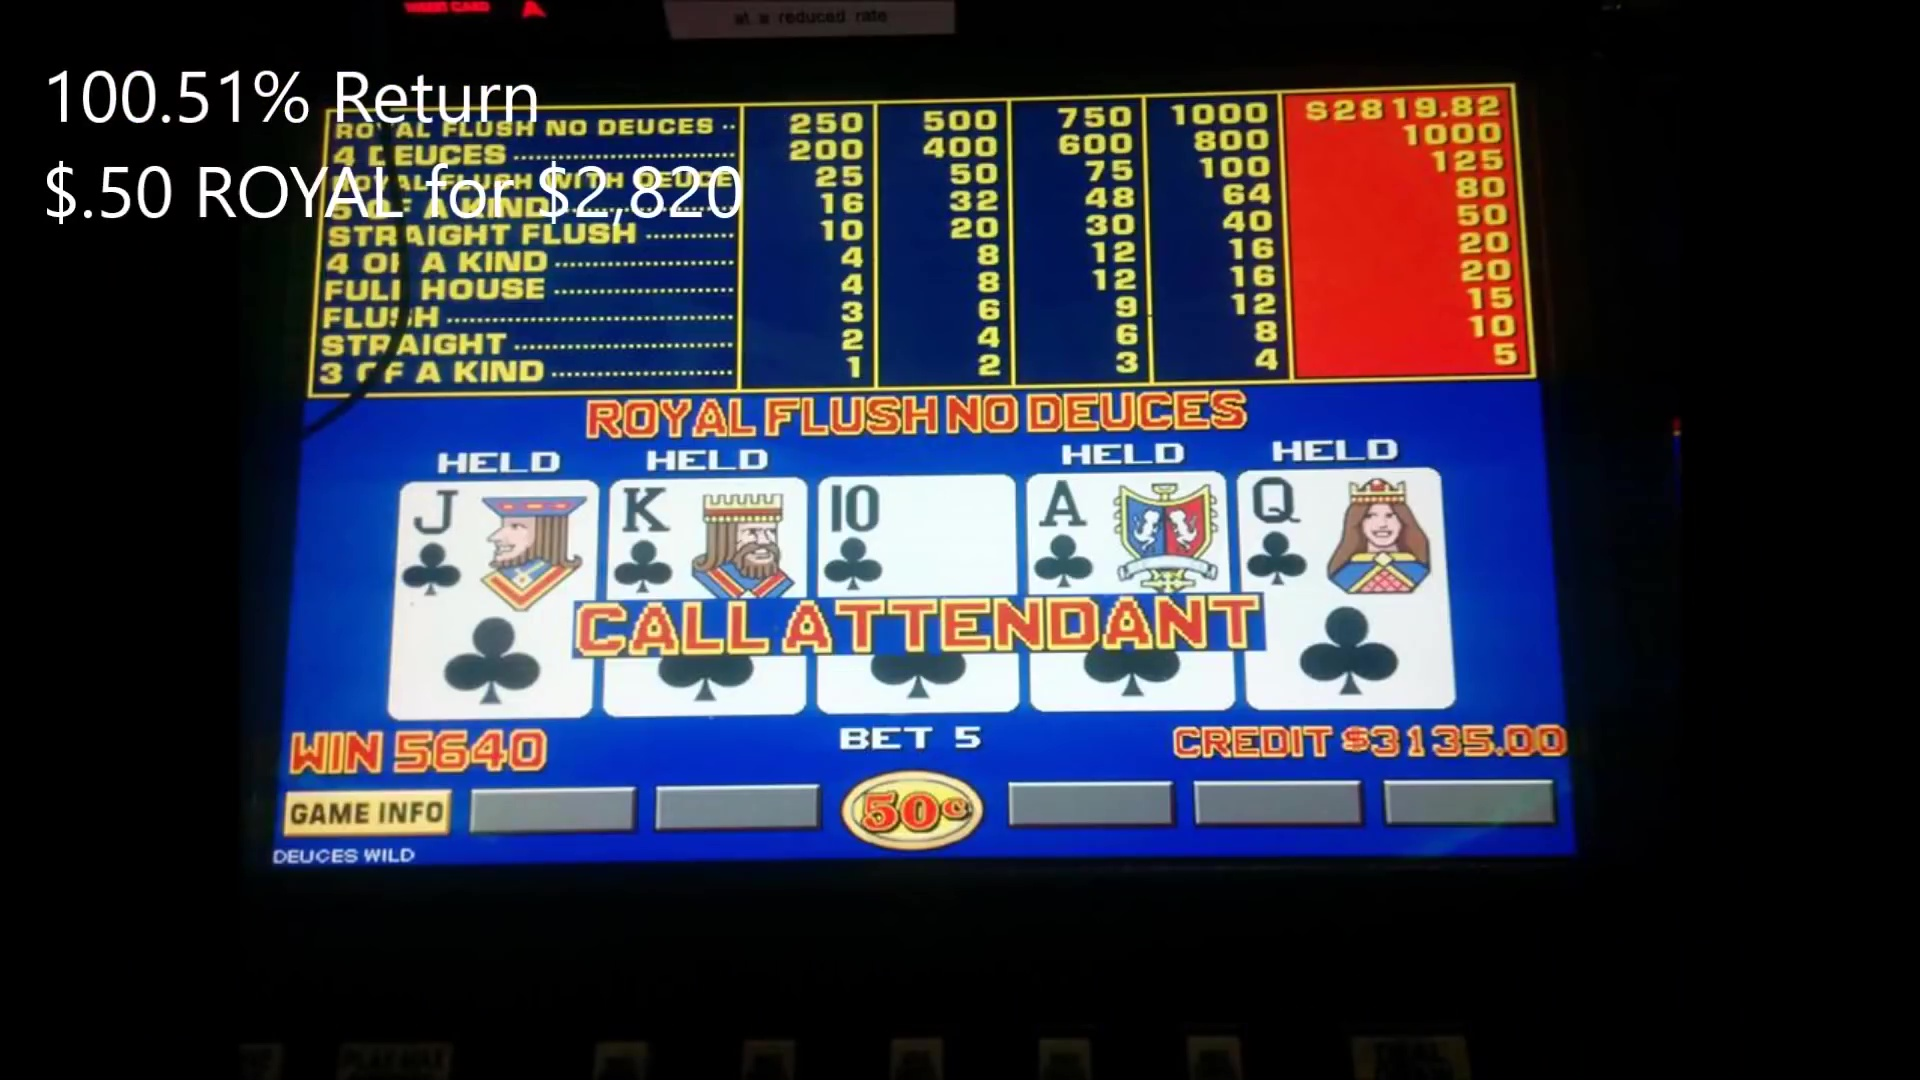AC: (1029, 475, 1225, 589), (1244, 473, 1437, 588)
JC: (397, 484, 588, 597)
KC: (609, 483, 806, 593)
TC: (820, 477, 1015, 591)
